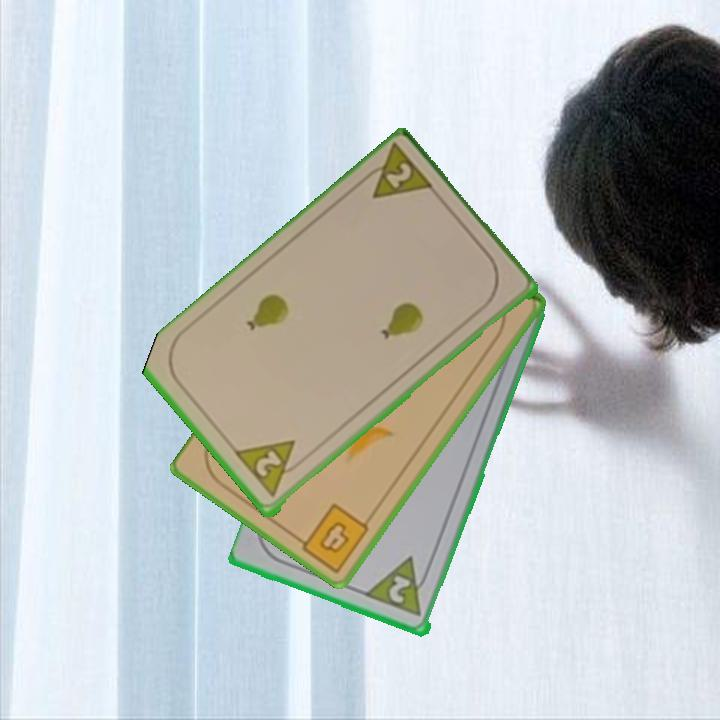2p: (355, 142, 438, 203), (232, 436, 309, 501), (385, 572, 414, 607)
4b: (291, 500, 373, 575)
